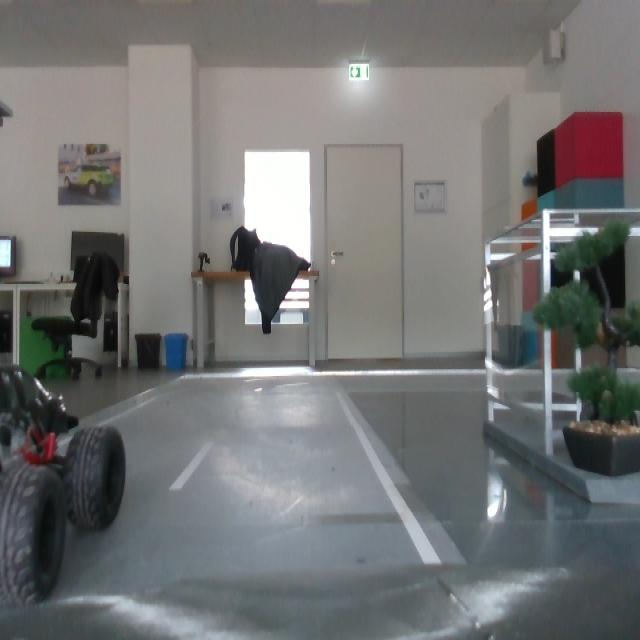car: (1, 354, 130, 616)
potted plant: (533, 216, 640, 429)
